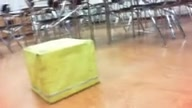cube: (22, 38, 100, 104)
